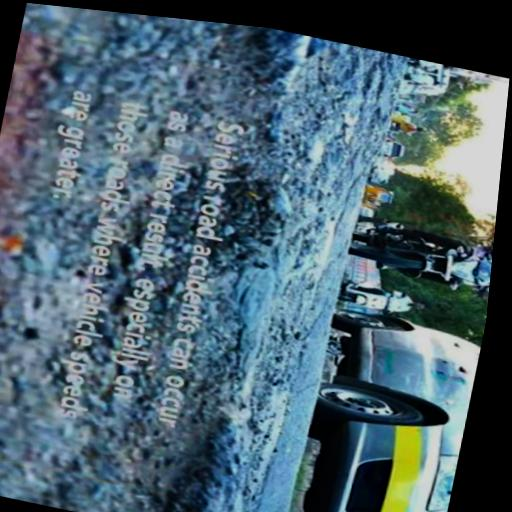pothole: (33, 26, 306, 512)
